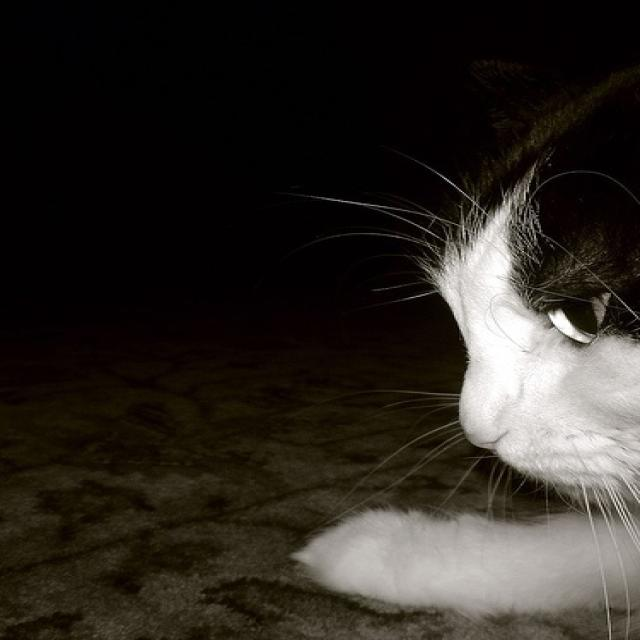cat: (294, 68, 638, 618)
